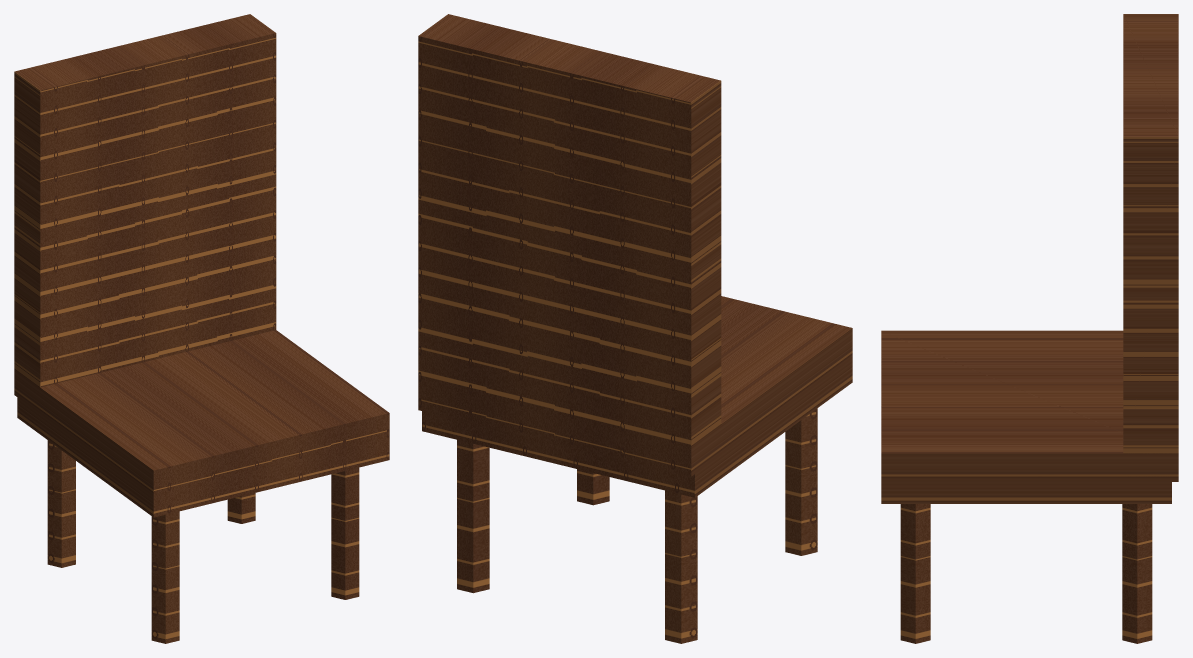
The model's file is silla.obj.
3 views of the same model, side by side, from view 1: azimuth 30°, elevation 25°; view 2: azimuth 150°, elevation 25°; view 3: azimuth 270°, elevation 25° (orthographic). The views are drawn at different scales.
Visible parts, largest first — view 1: silla; view 2: silla; view 3: silla.
Part boxes in pixels (bbox=[...]): silla: bbox=[14, 14, 389, 643]; silla: bbox=[418, 14, 852, 643]; silla: bbox=[881, 14, 1178, 643].
Bounding box in the file's own units: 0.42 × 0.82 × 0.43.
1 material, 1 textured.
